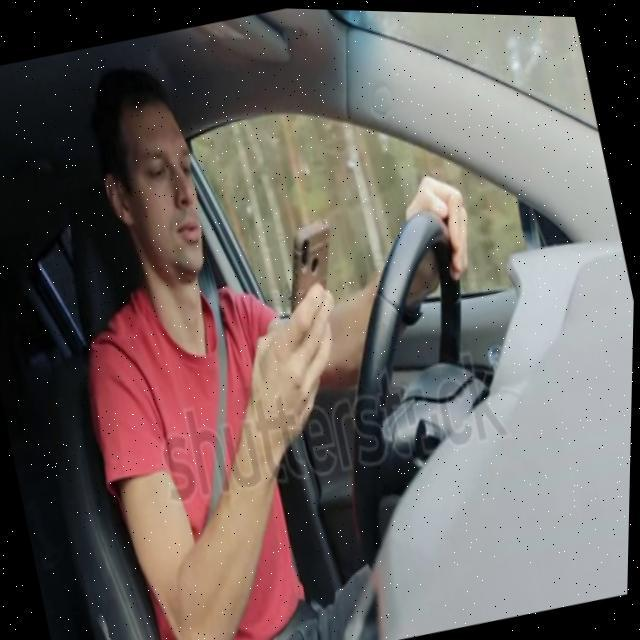PhoneCall: (271, 212, 354, 336)
